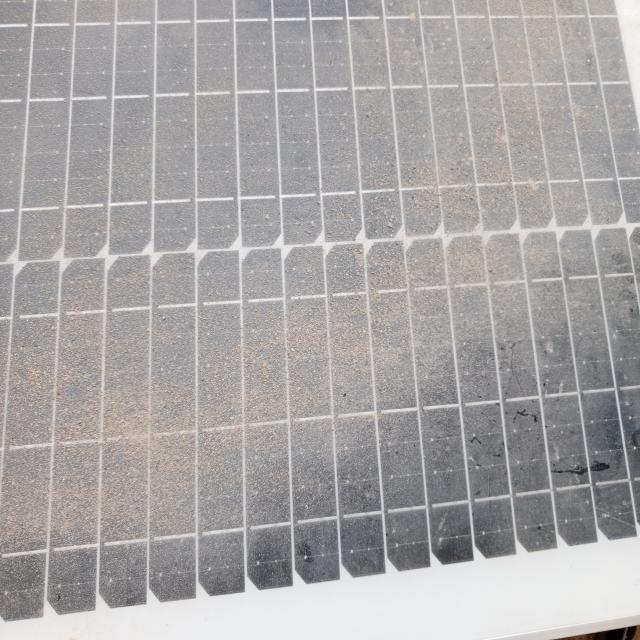Surface Contaminant: (12, 8, 639, 550)
